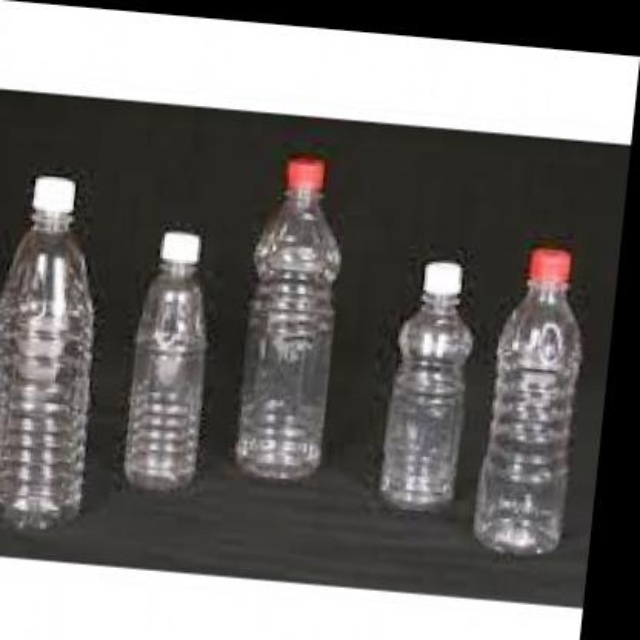trash: (237, 157, 338, 480), (0, 175, 92, 528), (474, 248, 580, 554), (380, 262, 471, 509), (125, 231, 205, 489)
